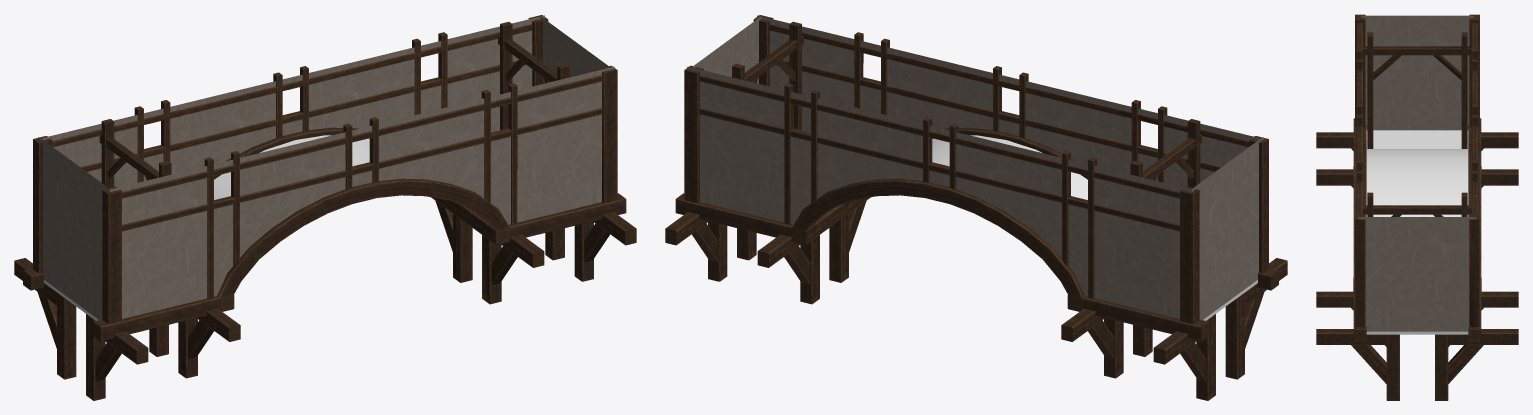
Rendered from Building2a.glb.
The picture shows the model from 3 angles, left to right: view 1: azimuth 30°, elevation 25°; view 2: azimuth 150°, elevation 25°; view 3: azimuth 270°, elevation 25°; orthographic projection. The views are drawn at different scales.
Visible parts, largest first — view 1: wall1, arch; view 2: wall1, arch; view 3: arch, wall1, floor.
Part boxes in pixels (box(x1,y1,x2,y2)): wall1: box(38, 15, 614, 319); arch: box(14, 15, 636, 400); wall1: box(687, 15, 1263, 319); arch: box(665, 15, 1287, 400); arch: box(1316, 14, 1518, 400); wall1: box(1358, 15, 1476, 331); floor: box(1366, 130, 1468, 334).
Bounding box in the file's own units: 11.38 × 4.76 × 4.6.
Materials: 2 (2 with a texture image).
